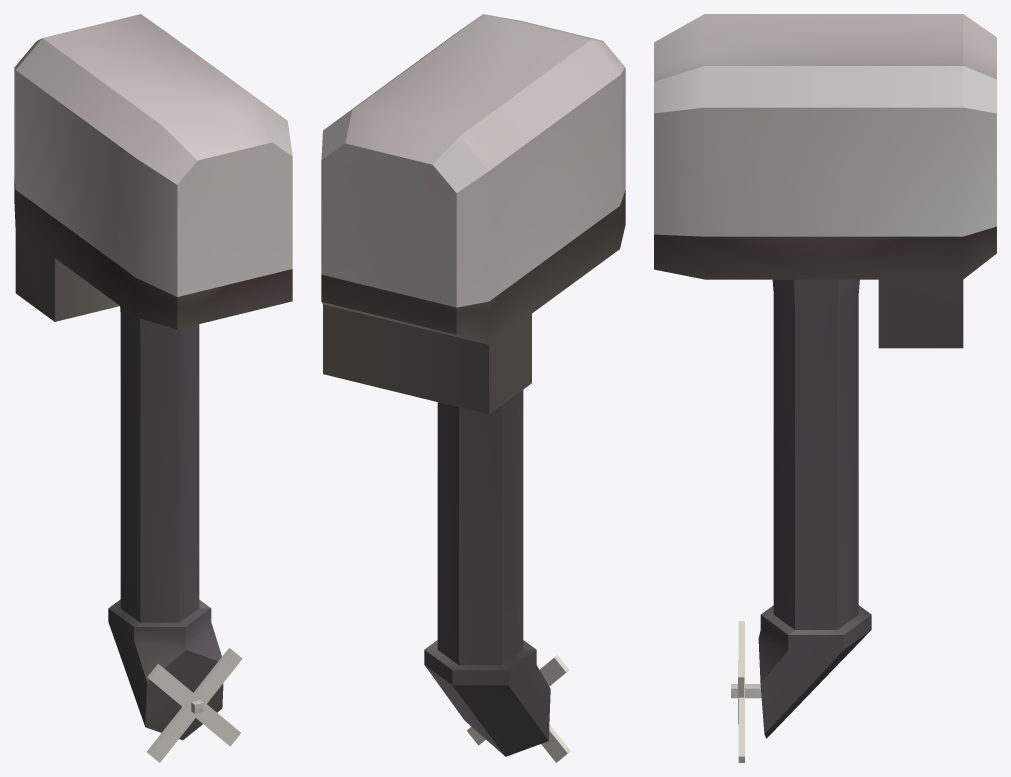
The model's file is prop.outboard.glb.
The picture shows the model from 3 angles, left to right: view 1: azimuth 30°, elevation 25°; view 2: azimuth 150°, elevation 25°; view 3: azimuth 270°, elevation 25°; orthographic projection. The views are drawn at different scales.
Visible parts, largest first — view 1: Cube017; view 2: Cube017; view 3: Cube017.
Part boxes in pixels (box(x1,y1,x2,y2)): Cube017: box(14, 14, 292, 762); Cube017: box(321, 14, 625, 762); Cube017: box(654, 14, 996, 762).
Bounding box in the file's own units: 0.244 × 1 × 0.441.
1 material, 1 textured.
